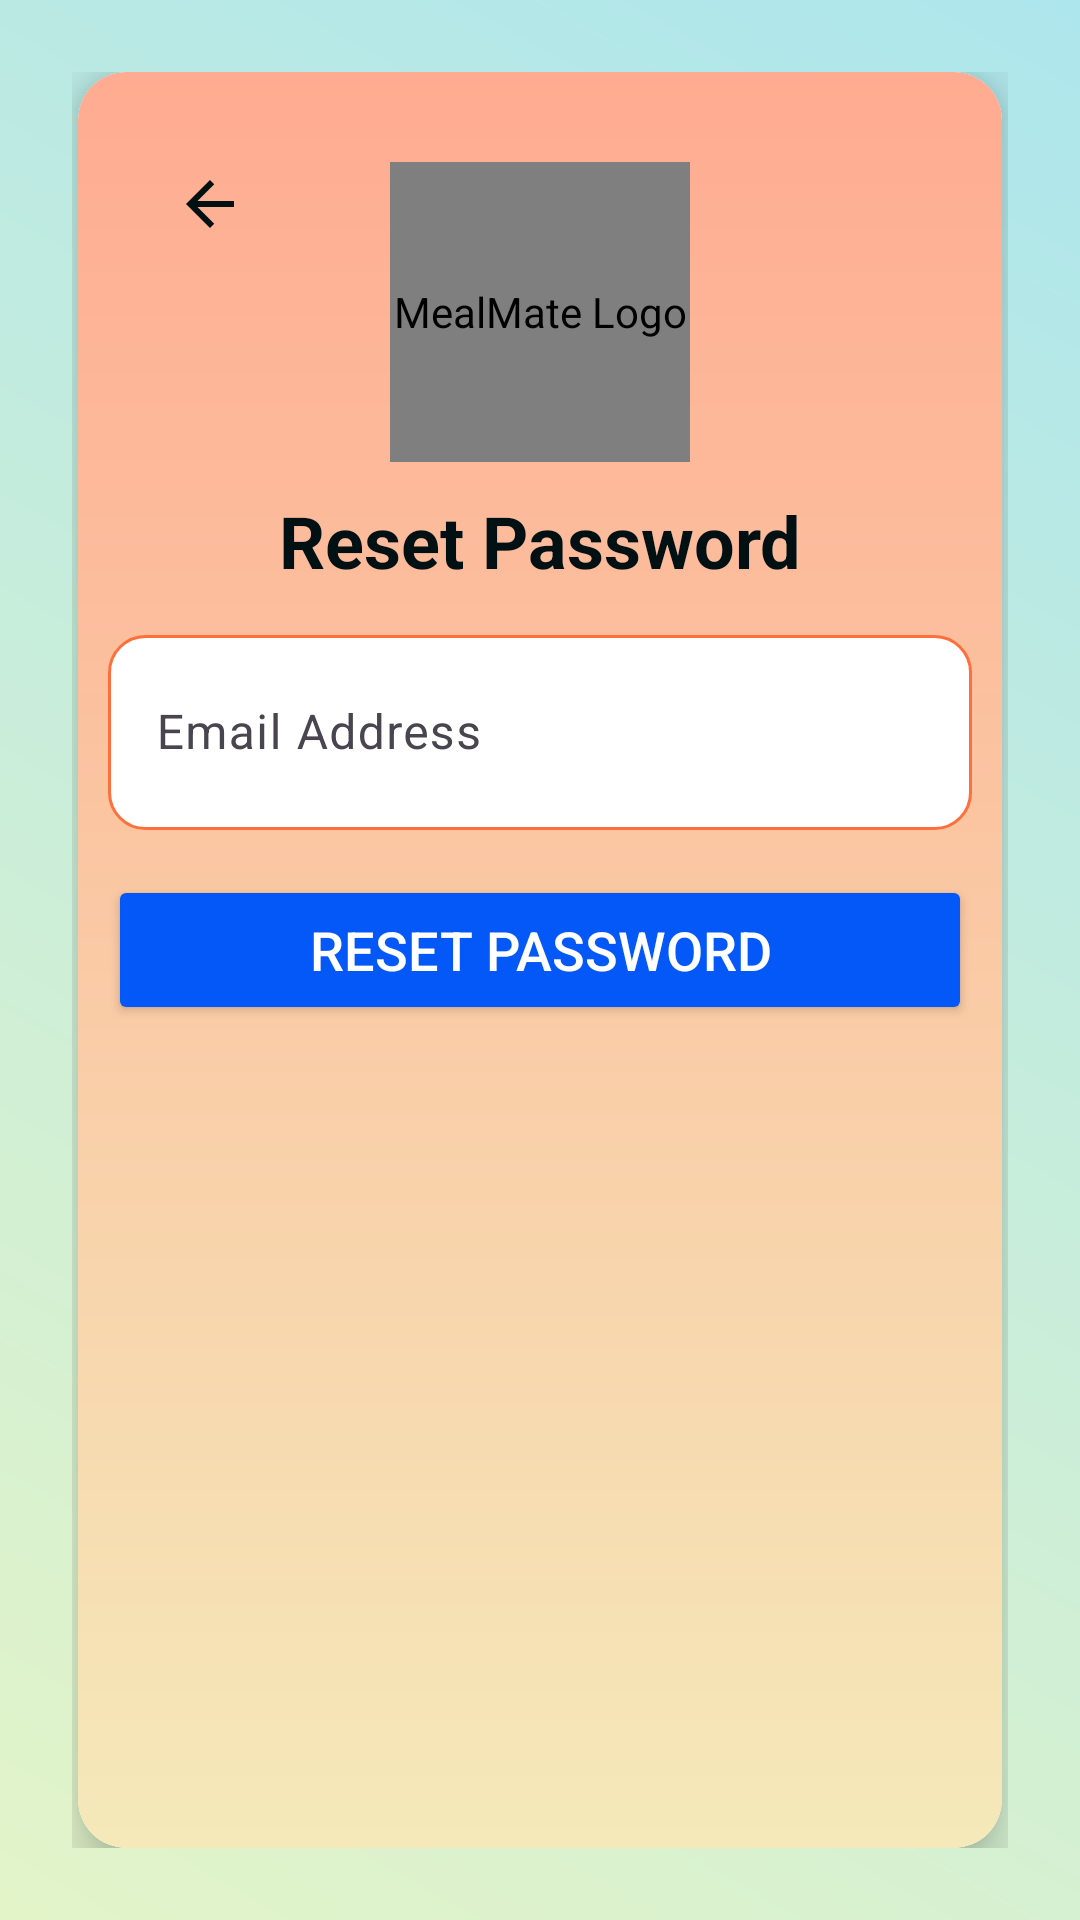

Named icons in this screenshot (1080 x 1920) and their centers, (x=x, y=y):
Back: (x=210, y=204)
